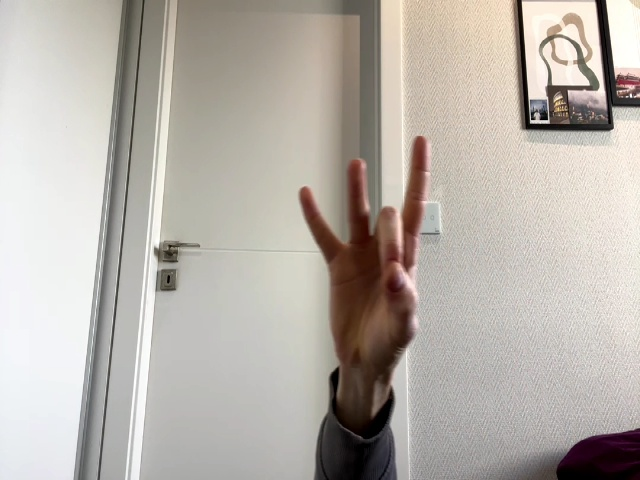G: (300, 136, 430, 369)
